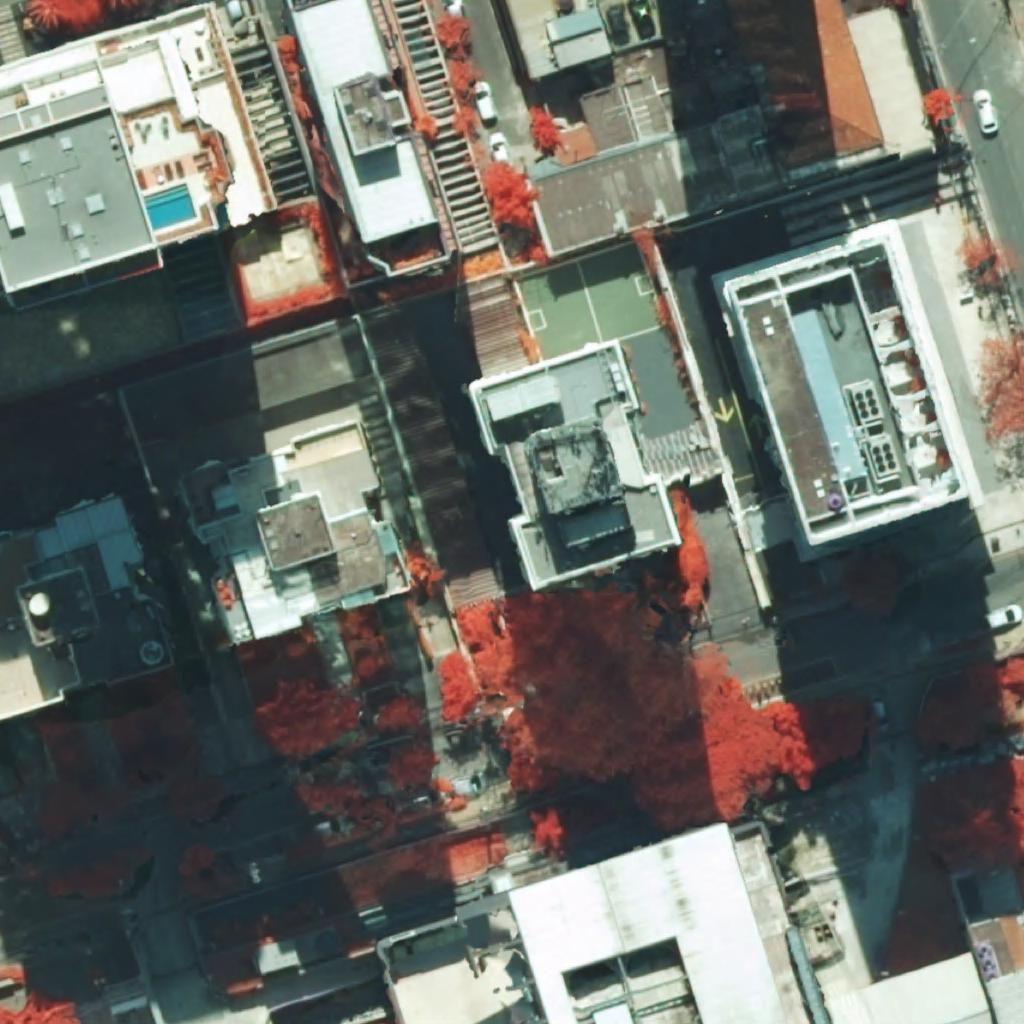pool: (142, 182, 197, 231)
